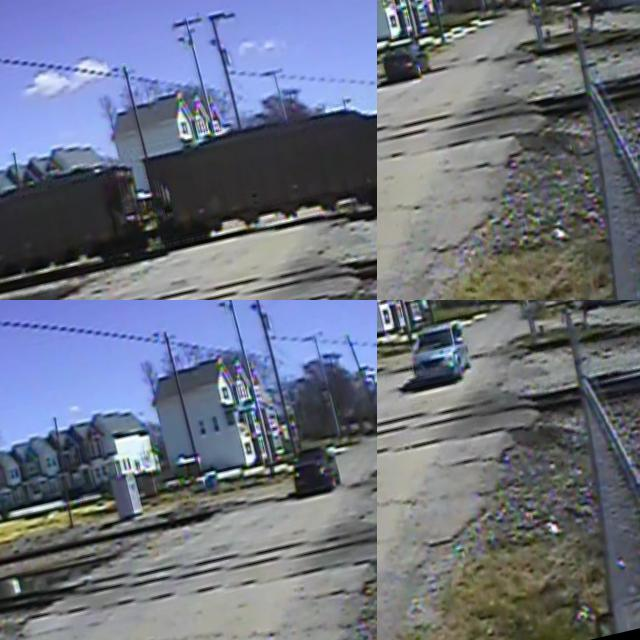barrier: (0, 300, 22, 485), (339, 317, 377, 416), (377, 300, 404, 409), (377, 0, 403, 107), (472, 300, 521, 343), (484, 0, 528, 45)
car: (397, 310, 477, 404), (274, 424, 352, 514), (377, 26, 434, 94)
rails: (0, 418, 377, 609), (0, 464, 377, 640), (377, 328, 640, 531), (377, 40, 640, 237), (0, 166, 377, 300), (377, 0, 640, 185), (377, 300, 640, 481), (0, 201, 377, 300)
traffic-signal: (377, 68, 416, 231), (377, 366, 412, 532), (0, 488, 38, 640), (0, 226, 38, 300), (502, 300, 554, 351), (514, 0, 554, 58), (359, 395, 377, 488)
train: (0, 54, 377, 300)
